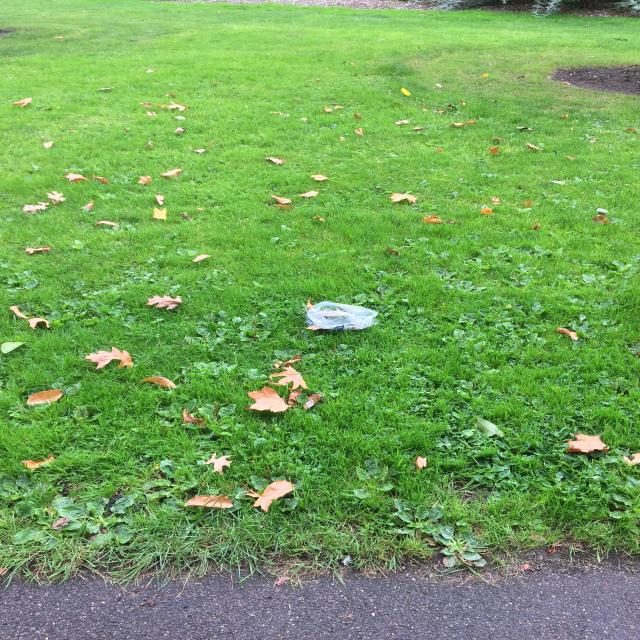Plastic film: (307, 301, 379, 330)
